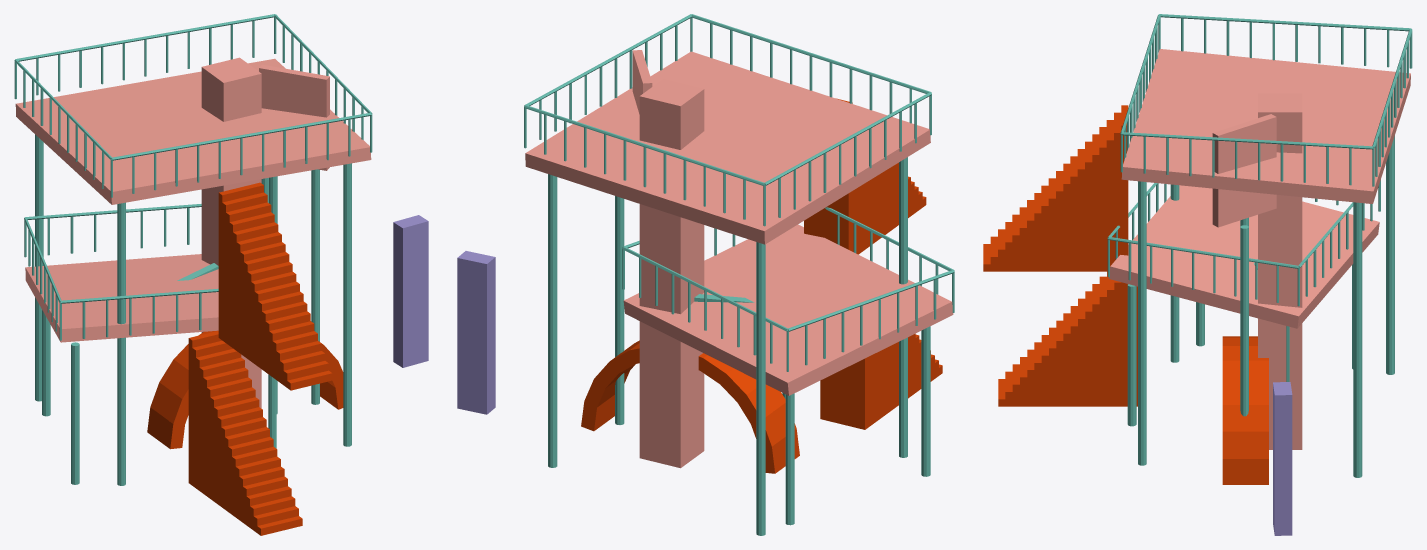
File: folie_tag_107.glb
The picture shows the model from 3 angles, left to right: view 1: azimuth 30°, elevation 25°; view 2: azimuth 150°, elevation 25°; view 3: azimuth 270°, elevation 25°; orthographic projection. The views are drawn at different scales.
Visible parts, largest first — view 1: folie_tag_107_stairs, folie_tag_107_00_plate, folie_tag_107_line, folie_tag_107_01_plate, folie_tag_107_core, folie_tag_107_04_fin, folie_tag_107_02_arc, folie_tag_107_03_panel; view 2: folie_tag_107_00_plate, folie_tag_107_line, folie_tag_107_01_plate, folie_tag_107_core, folie_tag_107_stairs, folie_tag_107_04_fin, folie_tag_107_02_arc, folie_tag_107_03_panel; view 3: folie_tag_107_00_plate, folie_tag_107_stairs, folie_tag_107_line, folie_tag_107_01_plate, folie_tag_107_core, folie_tag_107_02_arc, folie_tag_107_03_panel, folie_tag_107_04_fin.
Boxes of the visible parts, x1,y1,x2,y2 form: folie_tag_107_stairs: [188, 182, 332, 535]; folie_tag_107_00_plate: [15, 58, 371, 204]; folie_tag_107_line: [14, 14, 372, 485]; folie_tag_107_01_plate: [25, 254, 218, 342]; folie_tag_107_core: [201, 57, 261, 408]; folie_tag_107_04_fin: [393, 215, 428, 367]; folie_tag_107_02_arc: [147, 330, 343, 449]; folie_tag_107_03_panel: [259, 64, 329, 170]; folie_tag_107_00_plate: [525, 51, 930, 244]; folie_tag_107_line: [524, 14, 954, 535]; folie_tag_107_01_plate: [623, 224, 953, 395]; folie_tag_107_core: [639, 79, 704, 468]; folie_tag_107_stairs: [804, 98, 942, 429]; folie_tag_107_04_fin: [457, 251, 495, 414]; folie_tag_107_02_arc: [581, 340, 799, 473]; folie_tag_107_03_panel: [632, 50, 652, 114]; folie_tag_107_00_plate: [1121, 49, 1410, 203]; folie_tag_107_stairs: [983, 105, 1137, 406]; folie_tag_107_line: [1107, 14, 1412, 477]; folie_tag_107_01_plate: [1108, 185, 1379, 328]; folie_tag_107_core: [1258, 93, 1302, 449]; folie_tag_107_02_arc: [1222, 336, 1268, 484]; folie_tag_107_03_panel: [1212, 114, 1276, 227]; folie_tag_107_04_fin: [1273, 382, 1292, 535].
Size of the model in its own units: 11.86 by 9.31 by 10.65.
